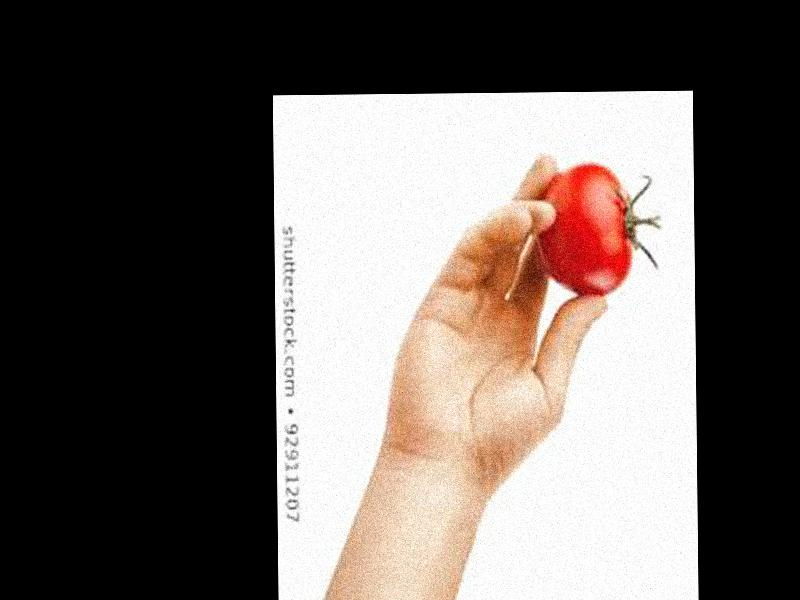Tomato: (534, 162, 633, 297)
